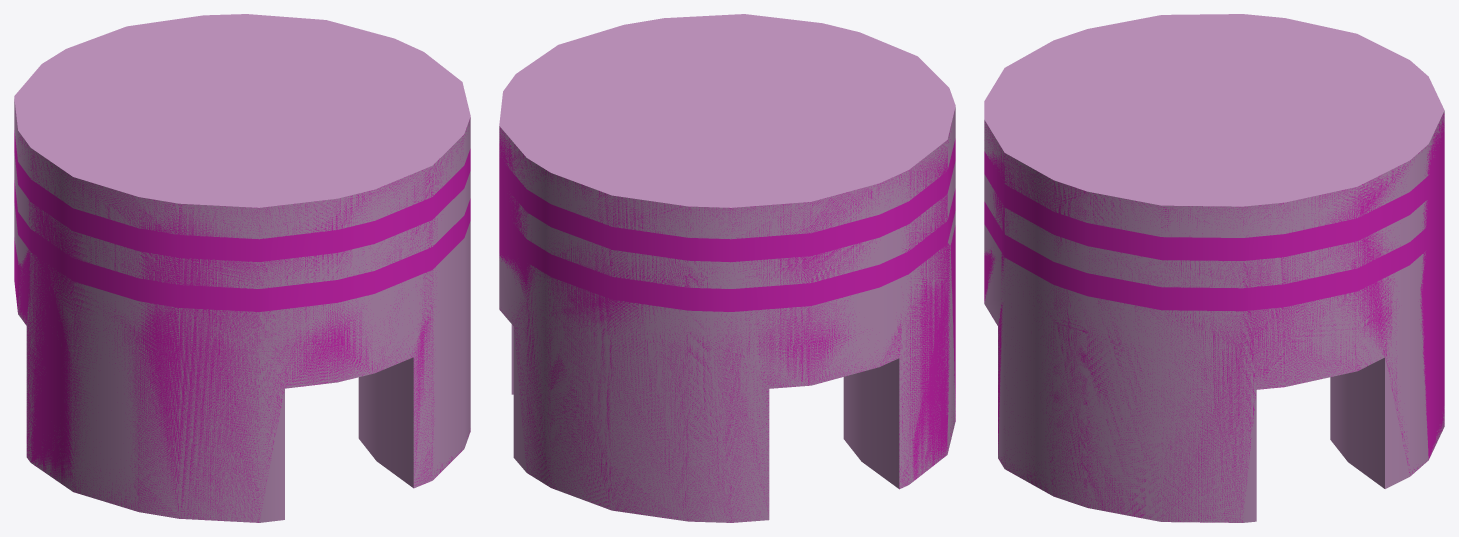
File: building22.fbx
3 views of the same model, side by side, from view 1: azimuth 30°, elevation 25°; view 2: azimuth 150°, elevation 25°; view 3: azimuth 270°, elevation 25° (orthographic).
Parts seen in each view (by area): view 1: building22_MESH, building22_COL; view 2: building22_MESH, building22_COL; view 3: building22_MESH, building22_COL.
Part boxes in pixels (<box>): building22_MESH: <box>14,14,470,522</box>; building22_COL: <box>14,110,470,522</box>; building22_MESH: <box>499,14,955,522</box>; building22_COL: <box>499,115,955,522</box>; building22_MESH: <box>984,14,1444,522</box>; building22_COL: <box>984,113,1444,522</box>.
Bounding box in the file's own units: 783 × 791 × 600.
